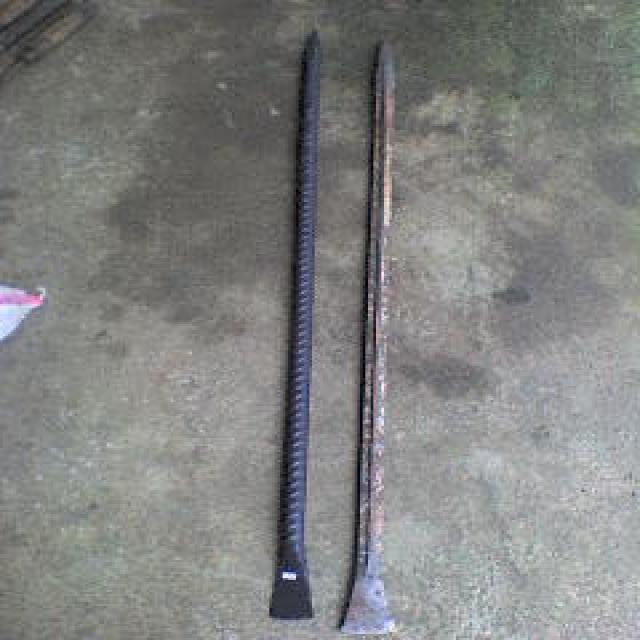Linggis: (335, 13, 420, 640), (260, 24, 326, 634)
